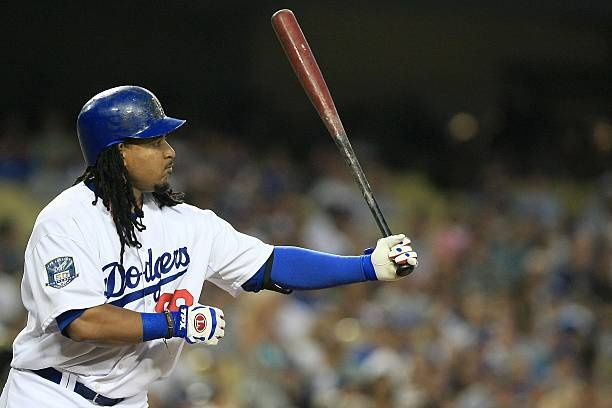bita: (269, 8, 411, 274)
